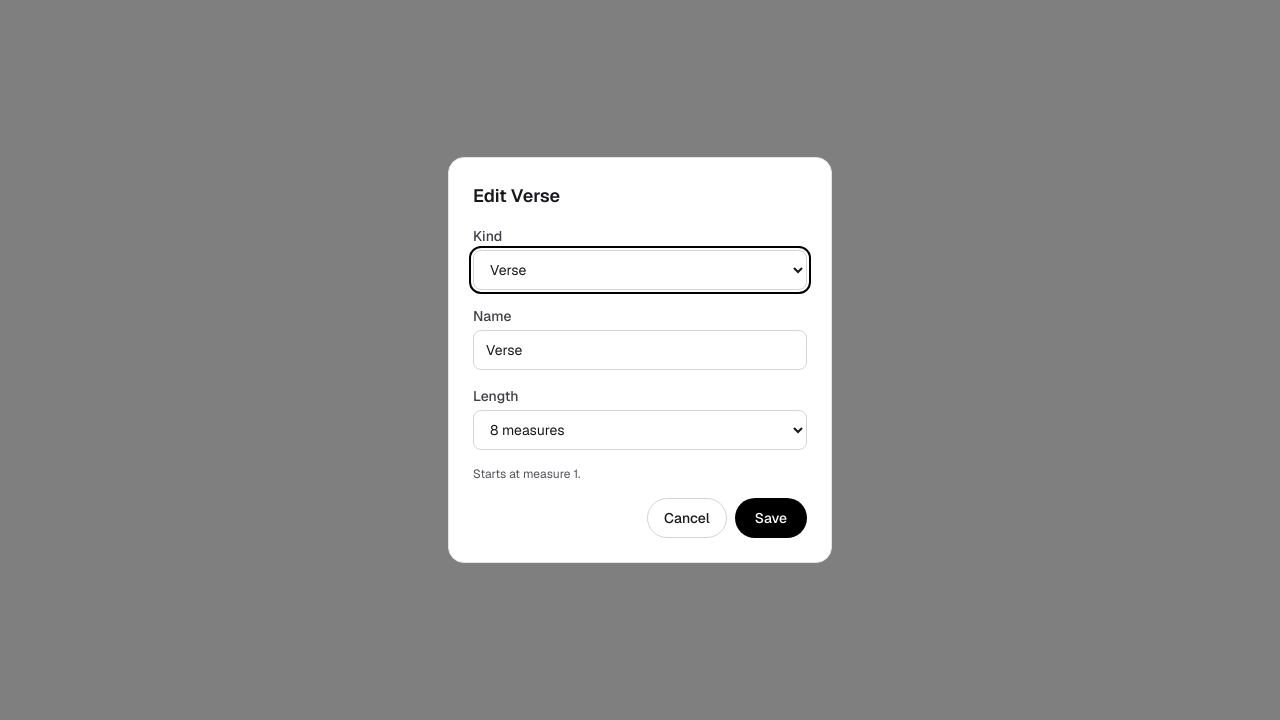
it: SectionDialog › describes what a length change does to every track
The image size is (1280, 720).
Select "6 measures" in the dropdown labelled "Length": (640,430) top-left (473, 410), bottom-right (807, 450)
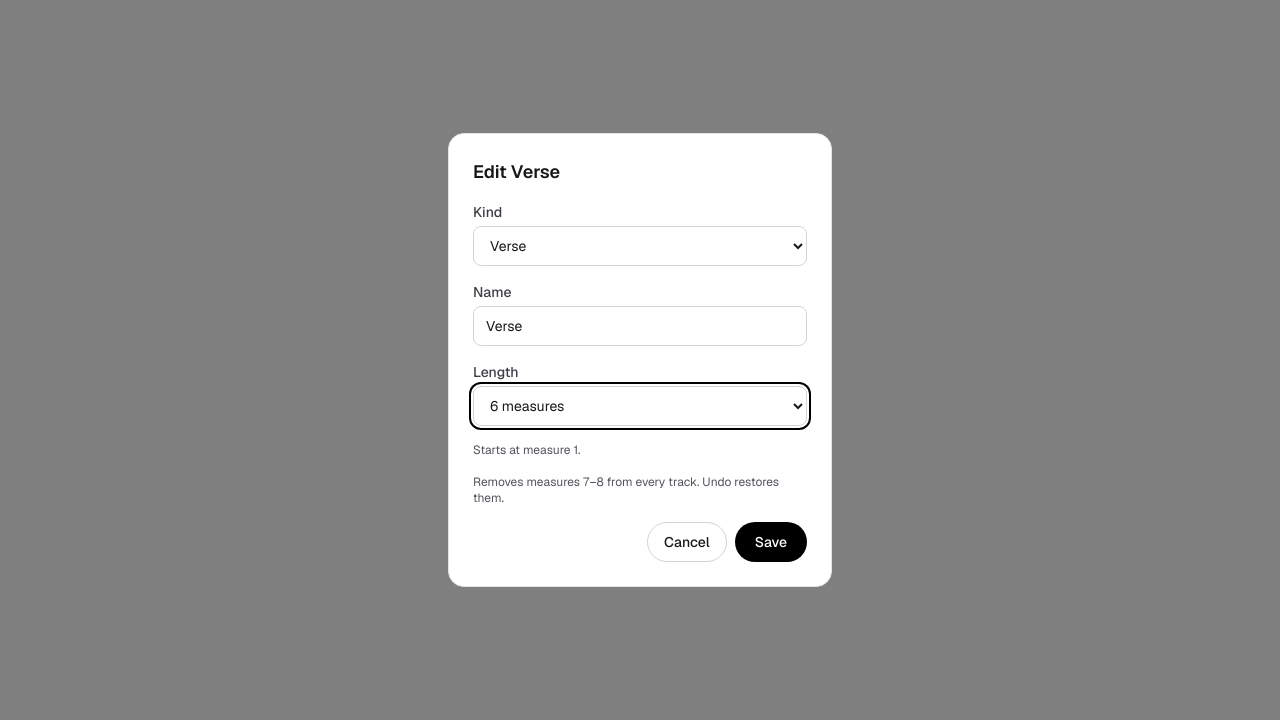
Check: the text "Removes measures 7–8 from every track. Undo restores them." is shown, box top-left (473, 474), bottom-right (807, 506)
Select "12 measures" in the dropdown labelled "Length": (640,406) top-left (473, 386), bottom-right (807, 426)
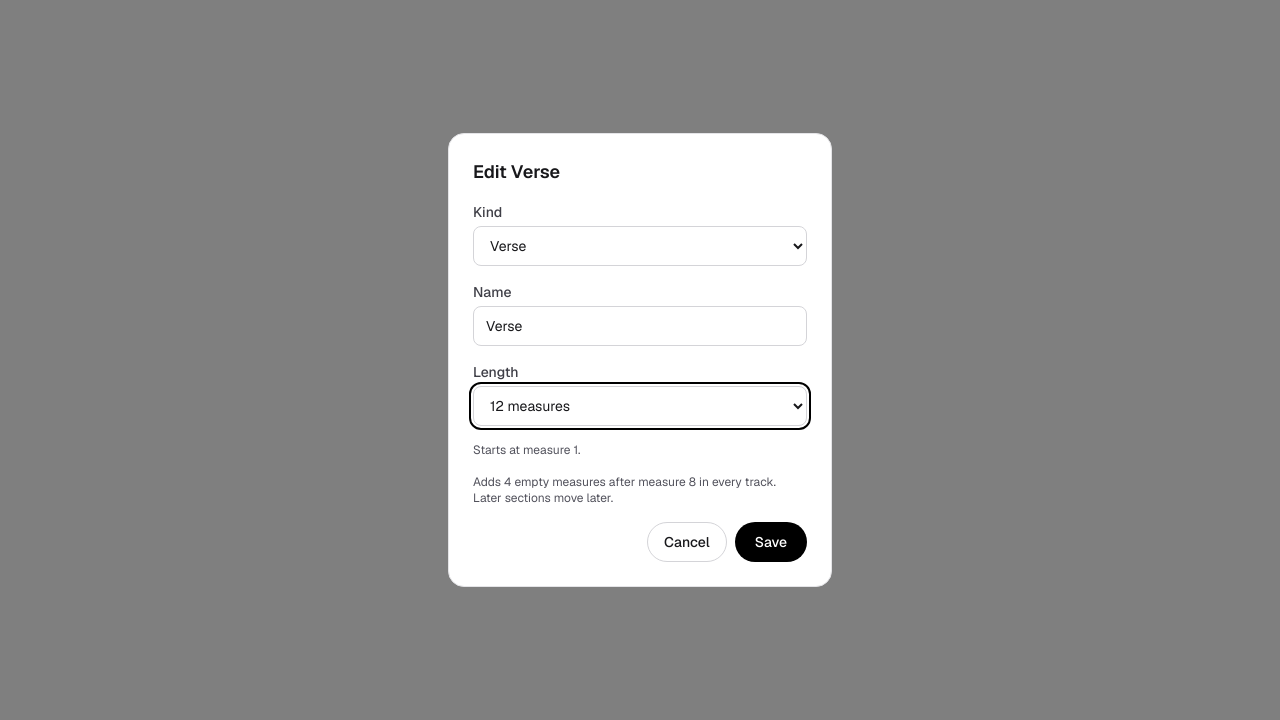
Check: the text "Adds 4 empty measures after measure 8 in every track. Later sections move later." is shown, box top-left (473, 474), bottom-right (807, 506)
